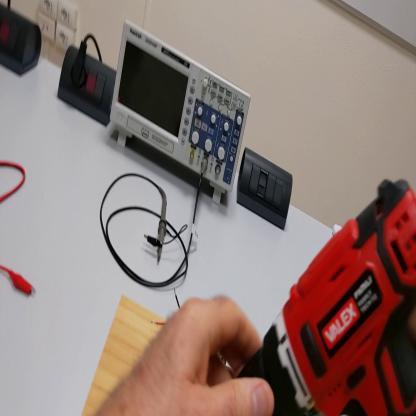electric screwdriver: (243, 179, 416, 416)
oscilloscope: (113, 23, 251, 209)
oscilloscope probe tip: (156, 193, 172, 263)
socket: (58, 46, 119, 128), (2, 3, 42, 75)
working area: (81, 292, 275, 414)
